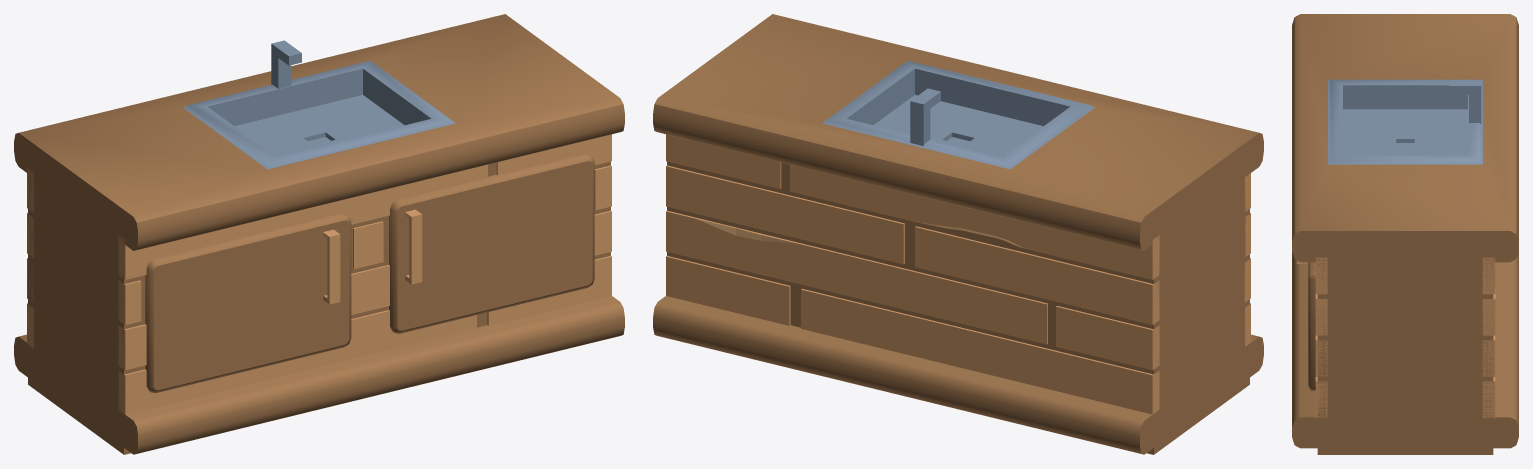
File: counter_sink.glb
The picture shows the model from 3 angles, left to right: view 1: azimuth 30°, elevation 25°; view 2: azimuth 150°, elevation 25°; view 3: azimuth 270°, elevation 25°; orthographic projection. The views are drawn at different scales.
Visible parts, largest first — view 1: Environment_Counter_Sink; view 2: Environment_Counter_Sink; view 3: Environment_Counter_Sink.
Part boxes in pixels (x1,y1,x2,y2): Environment_Counter_Sink: (14,14,624,454); Environment_Counter_Sink: (653,14,1263,454); Environment_Counter_Sink: (1292,14,1518,454).
Bounding box in the file's own units: 4 × 2.26 × 1.77.
Materials: 1 (1 with a texture image).
